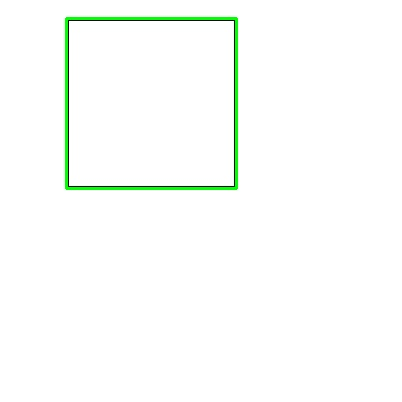line_segment: (65, 17, 238, 190)
